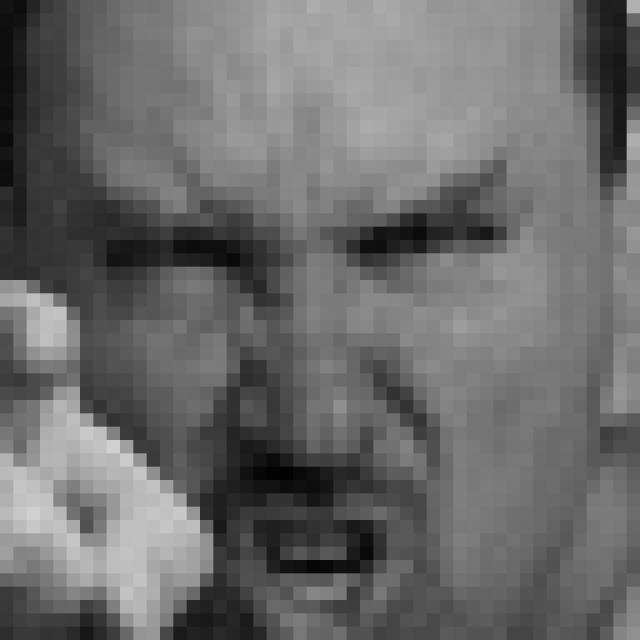angry: (97, 154, 518, 640)
